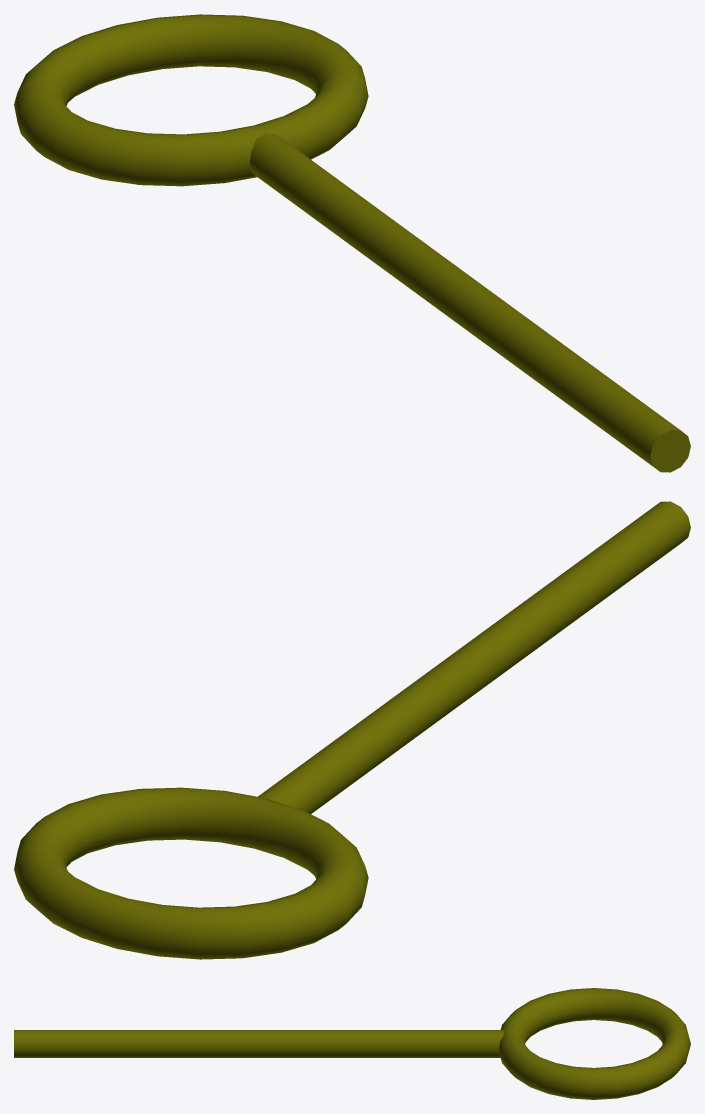
Rendered from fake Key.FBX.
3 views of the same model, one above another, from view 1: azimuth 30°, elevation 25°; view 2: azimuth 150°, elevation 25°; view 3: azimuth 270°, elevation 25° (orthographic). The views are drawn at different scales.
Visible parts, largest first — view 1: Cylinder001; view 2: Cylinder001; view 3: Cylinder001.
Part boxes in pixels (x1=…): Cylinder001: x1=14, y1=14, x2=690, y2=472; Cylinder001: x1=14, y1=501, x2=690, y2=959; Cylinder001: x1=14, y1=988, x2=690, y2=1099.
Bounding box in the file's own units: 23.4 × 3.4 × 71.57.
